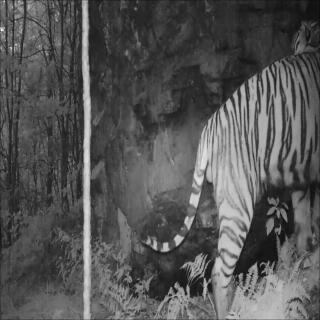Tiger: (141, 7, 320, 316)
